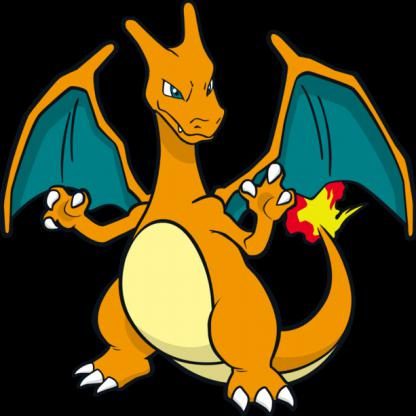Charizard: (1, 1, 416, 416)
